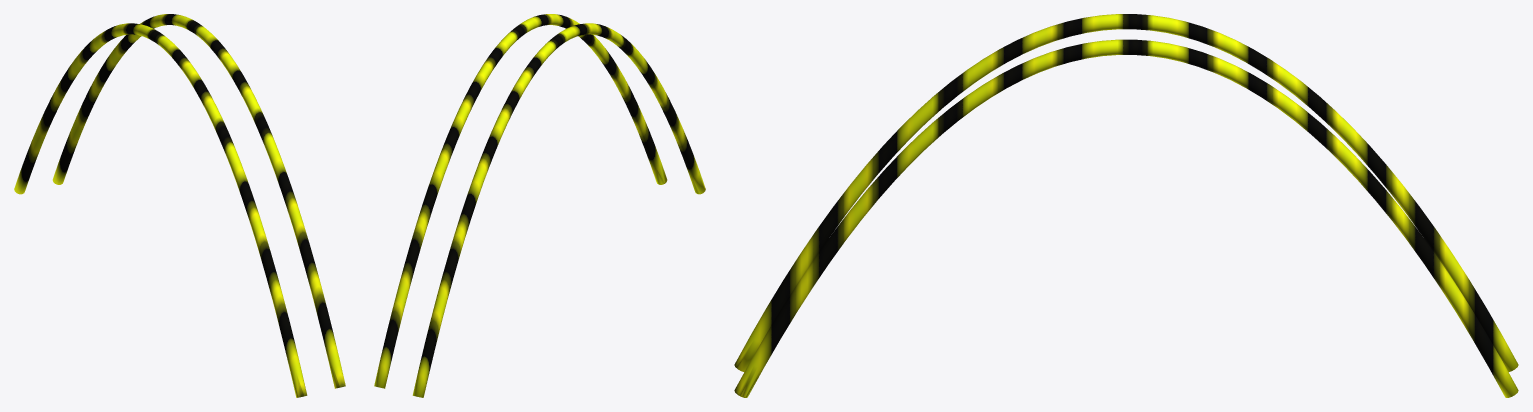
The model's file is pipe4.glb.
3 views of the same model, side by side, from view 1: azimuth 30°, elevation 25°; view 2: azimuth 150°, elevation 25°; view 3: azimuth 270°, elevation 25° (orthographic). The views are drawn at different scales.
Visible parts, largest first — view 1: Object_59; view 2: Object_59; view 3: Object_59.
Boxes of the visible parts, box(x1,y1,x2,y2) form: Object_59: box(14, 14, 345, 397); Object_59: box(374, 14, 705, 397); Object_59: box(734, 14, 1518, 397).
Bounding box in the file's own units: 0.8292 × 4.29 × 8.55.
Materials: 1 (1 with a texture image).
